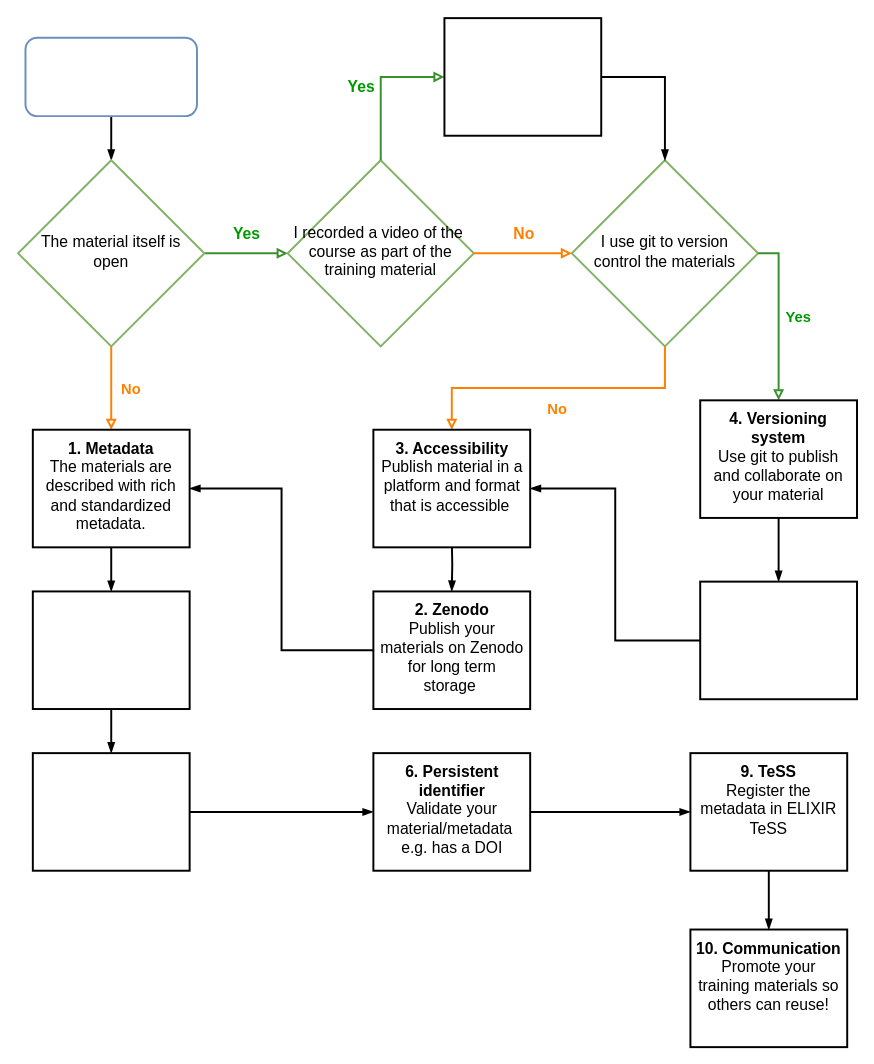
The diagram is 874 pixels wide and 1064 high, and some of its shapes have lost their labels. Each missing label, with the centre of its shape:
"2. Attribution Give appropriate credit to the owners of reused materials" goes at pixel 110 650.
"2. License Choose and assign an appropiate license, e.g. CC-BY-4.0" goes at pixel 110 811.
"7. Video materials Publish your videos on an accessible platform" goes at pixel 522 76.
"8. Glittr.org Register the materials in Glittr.org" goes at pixel 778 640.
"I am planning to make my training material FAIR" goes at pixel 110 76.
